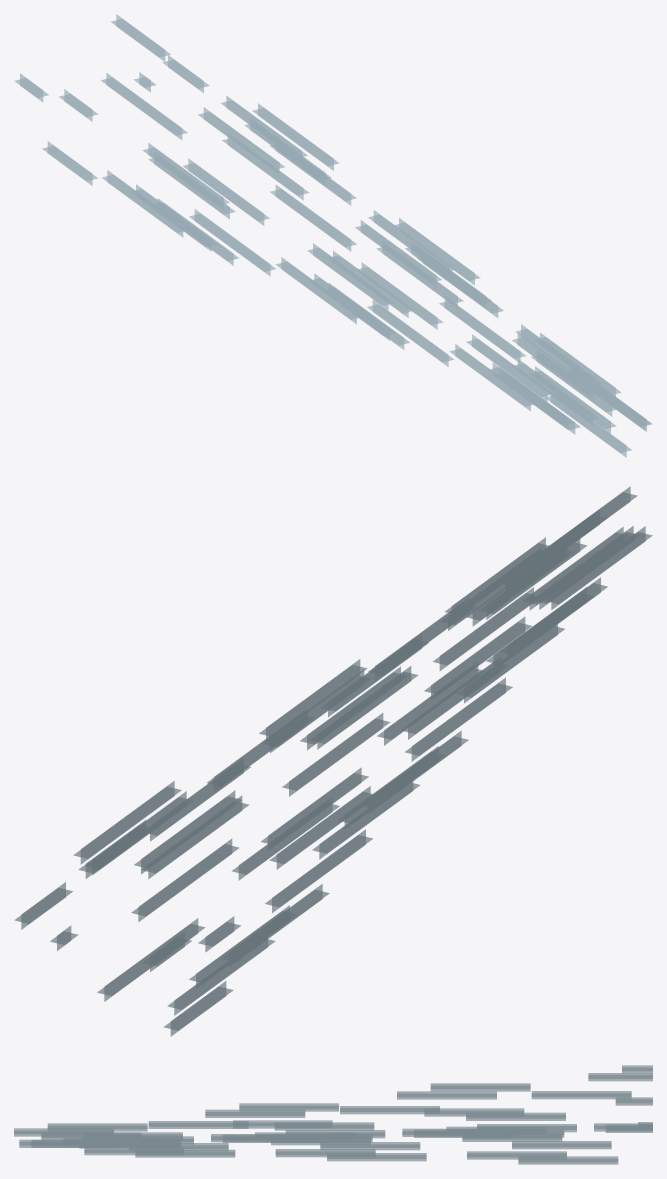
The model's file is wp_water_349.obj.
3 renders of one model, top to bottom at view 1: azimuth 30°, elevation 25°; view 2: azimuth 150°, elevation 25°; view 3: azimuth 270°, elevation 25°, orthographic. The views are drawn at different scales.
Bounding box in the file's own units: 0.3314 × 0.2499 × 1.54.
1 material, 1 textured.
